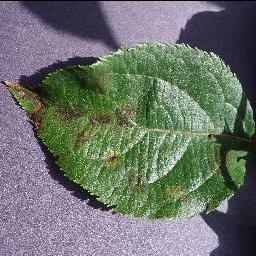apple healthy: (2, 39, 255, 221)
